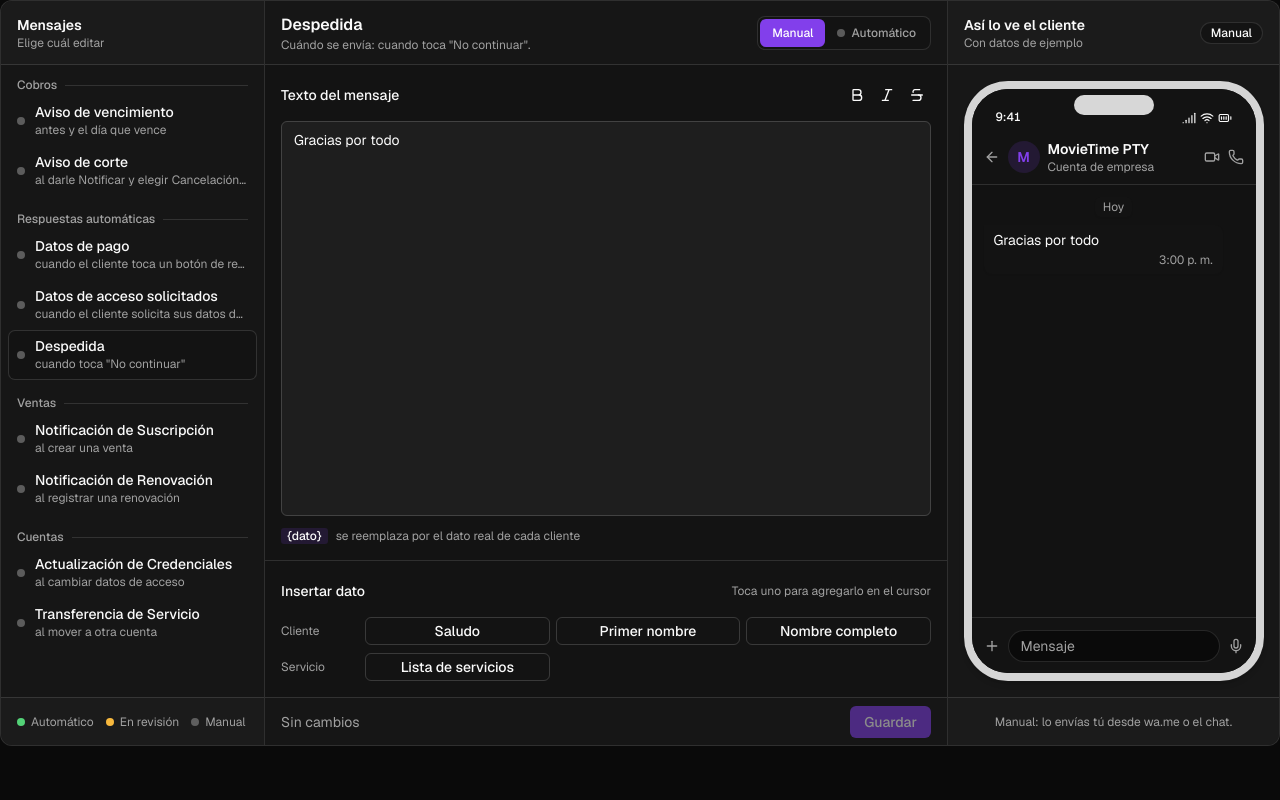
Test: TemplateEditor › opens on the requested tipo (deep link) and still lets the user switch
Expected: the heading "Despedida" is shown, [281, 14, 362, 34]
Expected: the text box holds "Gracias por todo", [281, 121, 931, 516]
Step 1. Click the button "Aviso de vencimiento antes y el día que vence" → point(132, 121), box [9, 97, 256, 145]
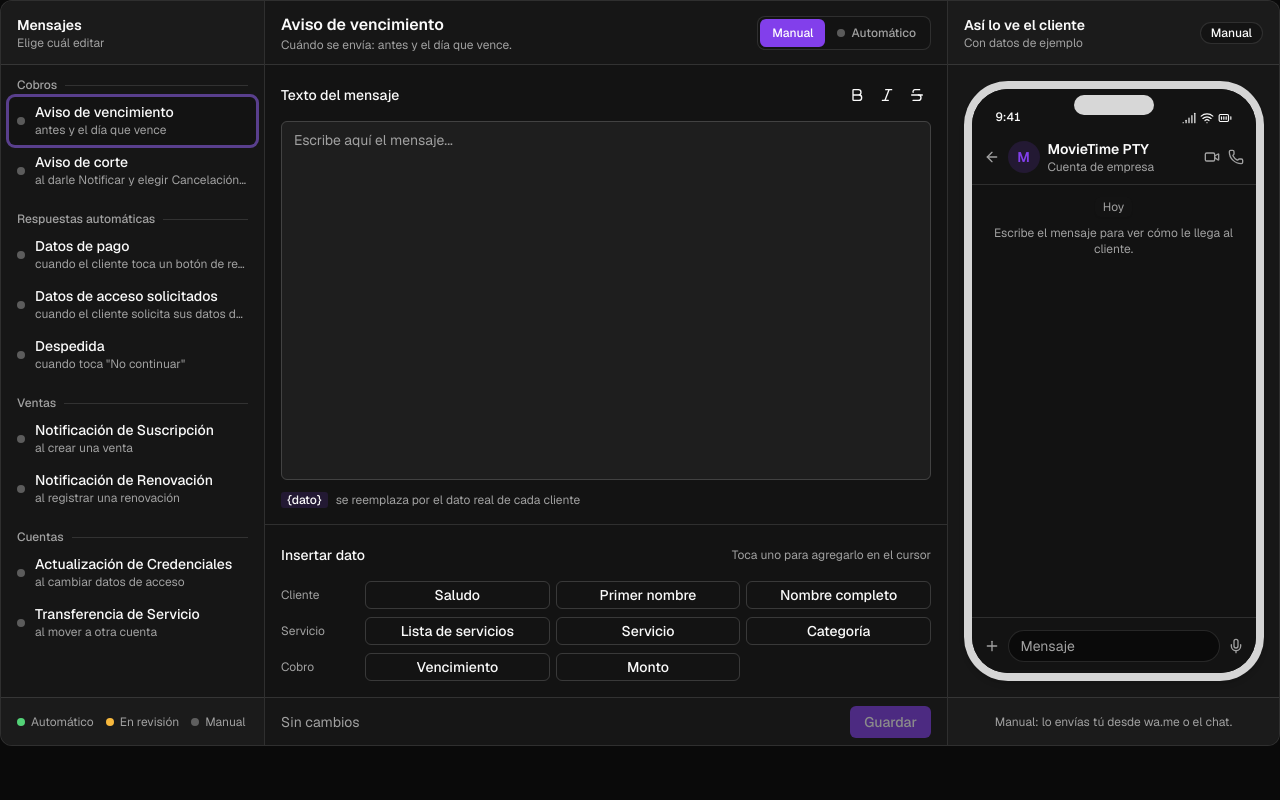
Now the heading "Aviso de vencimiento" is shown, box [281, 14, 444, 34]
